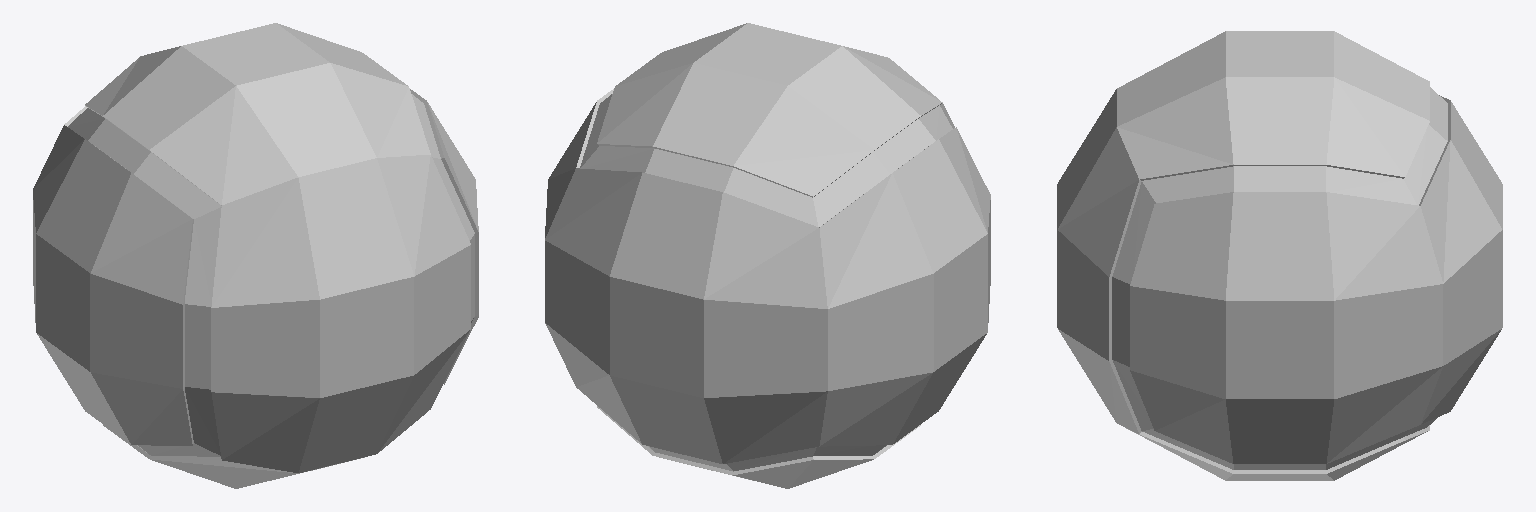
The model's file is Tennis_Ball_01.obj.
3 views of the same model, side by side, from view 1: azimuth 30°, elevation 25°; view 2: azimuth 150°, elevation 25°; view 3: azimuth 270°, elevation 25° (orthographic).
Visible parts, largest first — view 1: Tennisball_Roundcube.003; view 2: Tennisball_Roundcube.003; view 3: Tennisball_Roundcube.003.
Boxes of the visible parts, box(x1,y1,x2,y2) form: Tennisball_Roundcube.003: box(33, 23, 478, 488); Tennisball_Roundcube.003: box(545, 23, 990, 488); Tennisball_Roundcube.003: box(1057, 31, 1502, 480).
Bounding box in the file's own units: 9.45 × 9.45 × 9.45.